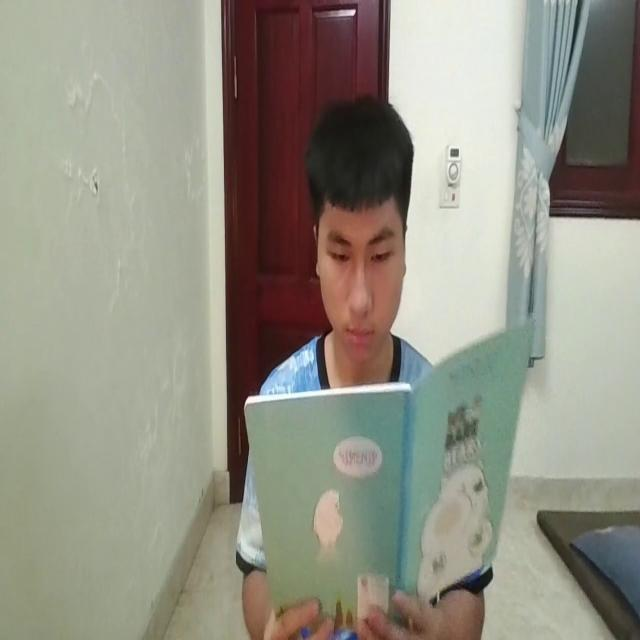book: (241, 317, 534, 620)
student: (238, 86, 492, 640)
